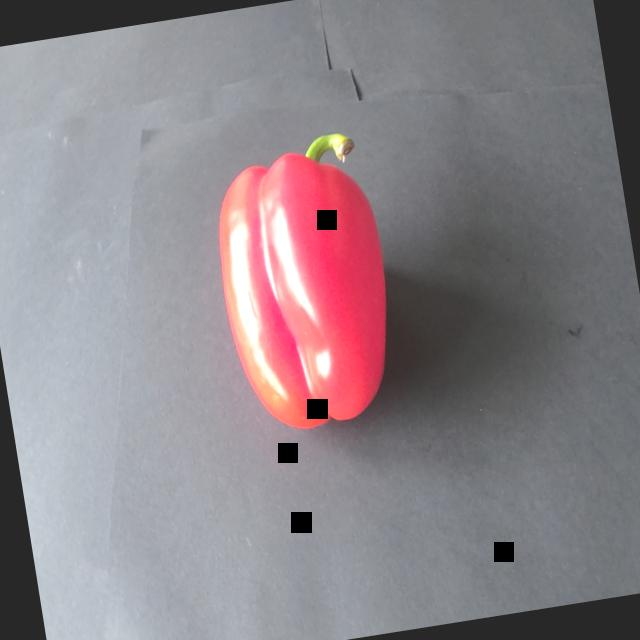Redpepper: (166, 92, 462, 510)
